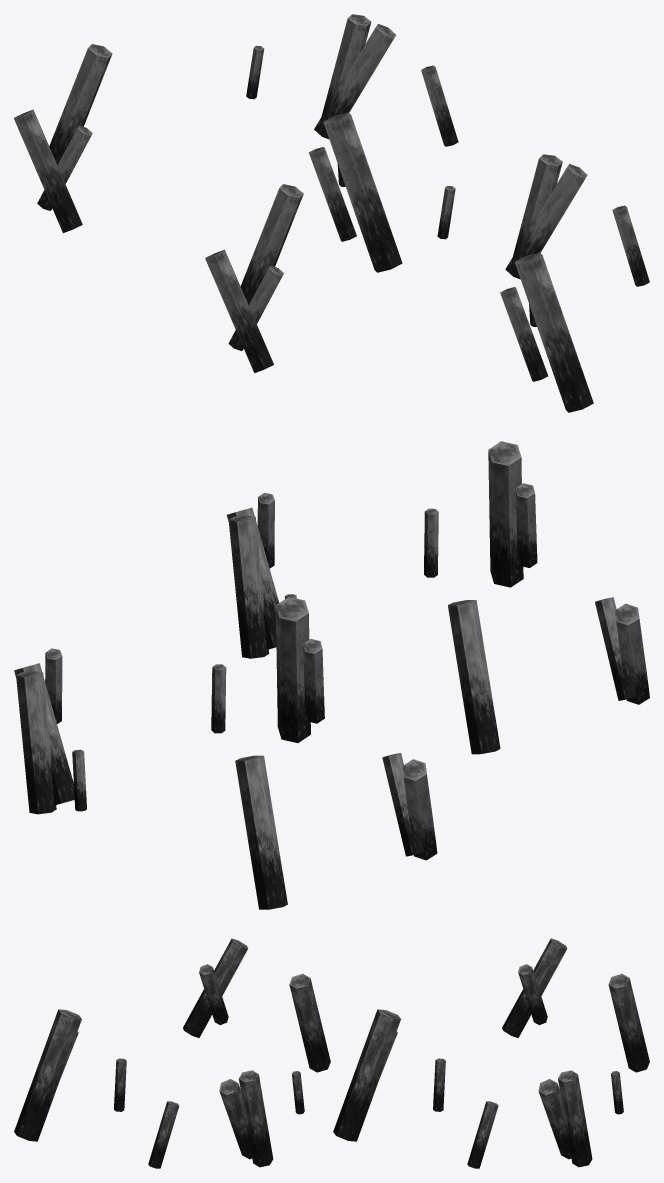
File: Map BG v2.fbx
The picture shows the model from 3 angles, top to bottom: view 1: azimuth 30°, elevation 25°; view 2: azimuth 150°, elevation 25°; view 3: azimuth 270°, elevation 25°; orthographic projection. The views are drawn at different scales.
Parts seen in each view (by area): view 1: Plane, Plane.001; view 2: Plane, Plane.001; view 3: Plane, Plane.001.
Part boxes in pixels (x1,y1,x2,y2): Plane: (14, 14, 458, 272); Plane.001: (205, 154, 649, 412); Plane: (14, 597, 437, 909); Plane.001: (226, 441, 649, 754); Plane: (333, 938, 649, 1168); Plane.001: (14, 938, 330, 1168).
Bounding box in the file's own units: 56926 × 20099 × 95601.
